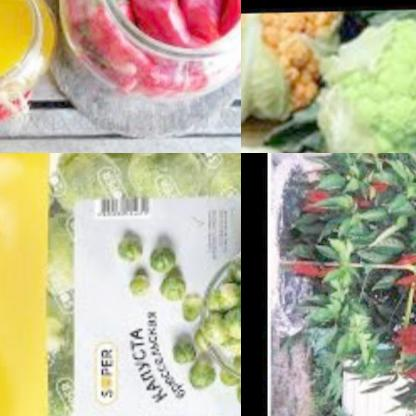brus capusta: (41, 153, 241, 205), (200, 256, 241, 360), (152, 226, 194, 302), (102, 230, 143, 280), (170, 352, 214, 390), (156, 330, 194, 371), (118, 266, 154, 304)
cayliflower: (308, 16, 416, 153), (241, 12, 344, 125)
hot pepper: (112, 0, 240, 44), (396, 234, 416, 372), (297, 176, 345, 217), (287, 251, 334, 289)
